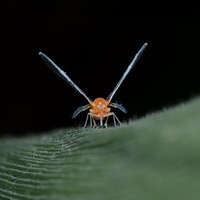insect: (39, 43, 147, 127)
